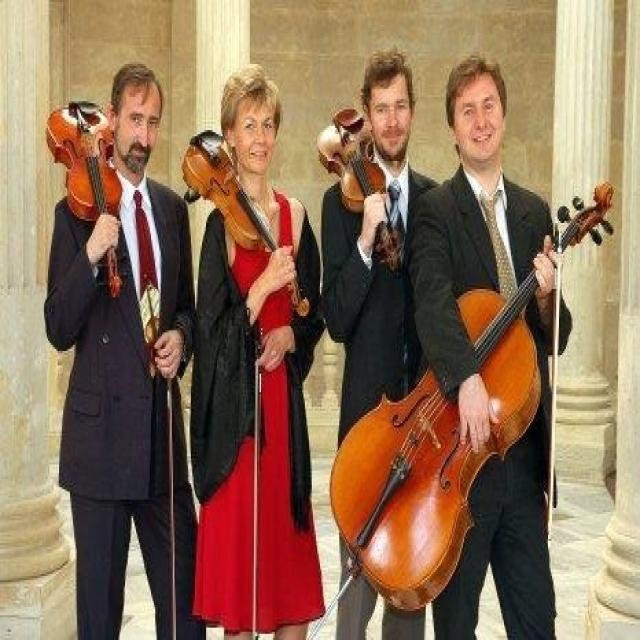cello: (329, 178, 615, 620)
violin: (180, 127, 312, 321), (45, 102, 124, 301), (315, 108, 406, 278)
